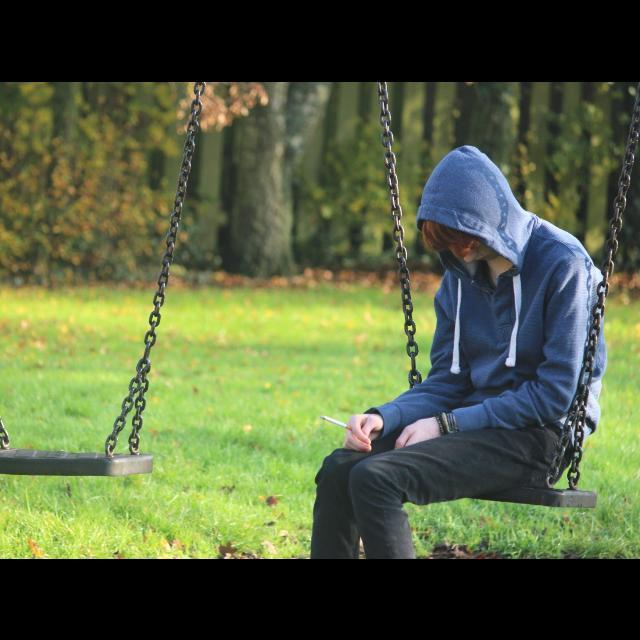rokok: (318, 414, 357, 431)
